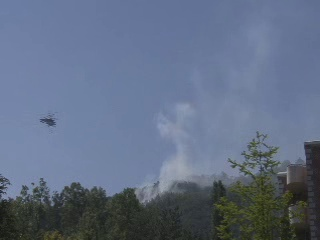smoke: (206, 46, 264, 186), (132, 98, 209, 203)
